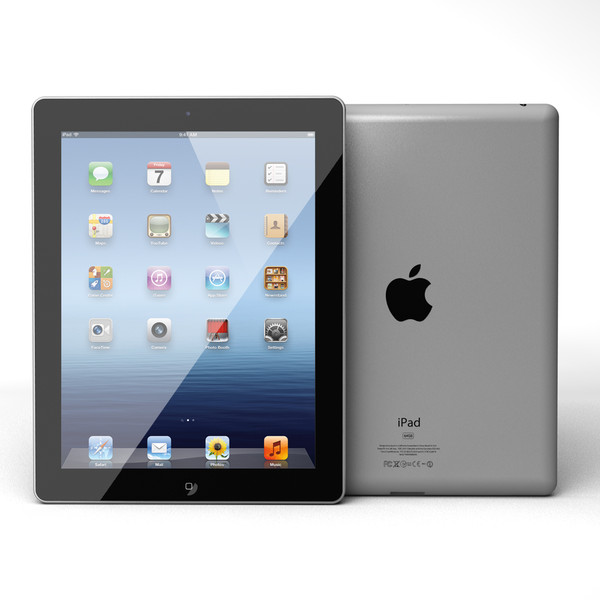apple: (381, 244, 440, 336)
